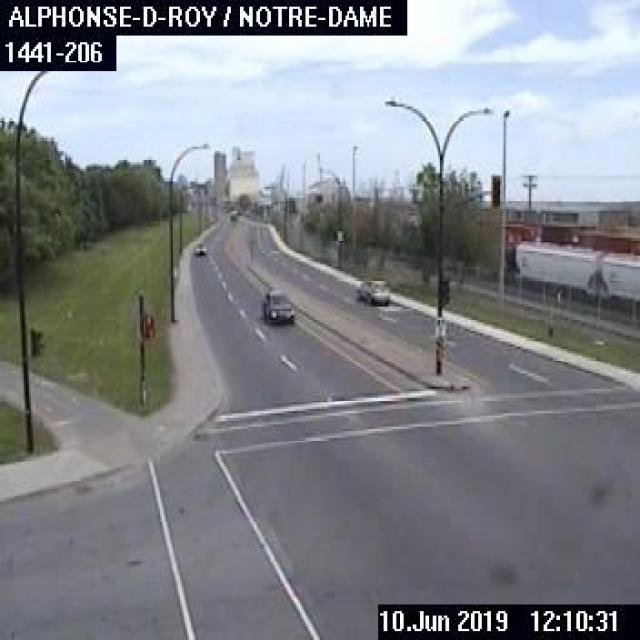vehicle: (260, 287, 296, 326), (354, 276, 390, 304), (193, 242, 207, 256)
